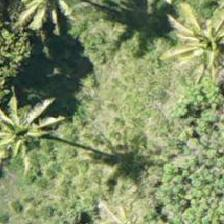coconut_tree: (0, 93, 60, 183), (160, 0, 223, 75)
